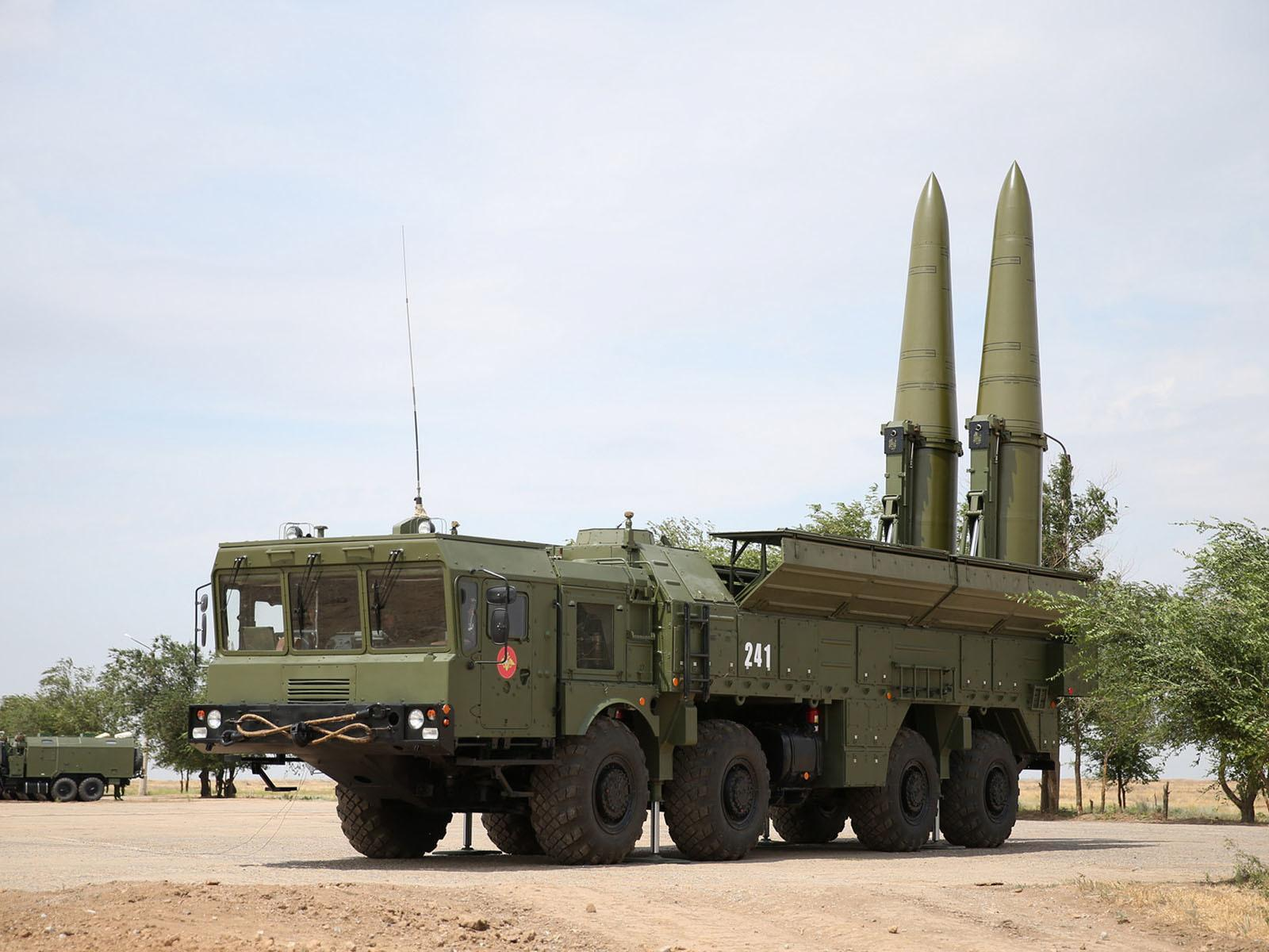rszo: (190, 429, 1114, 864)
truck: (0, 739, 156, 802)
